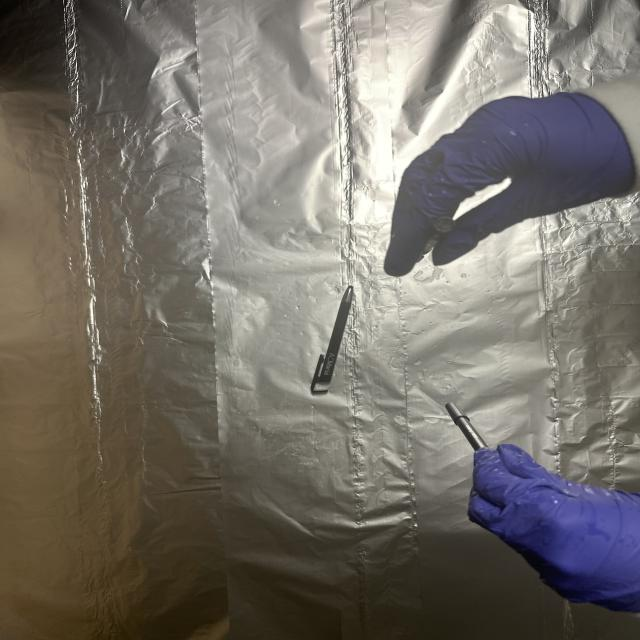gloves_contaminated: (384, 94, 636, 276), (468, 444, 640, 612)
